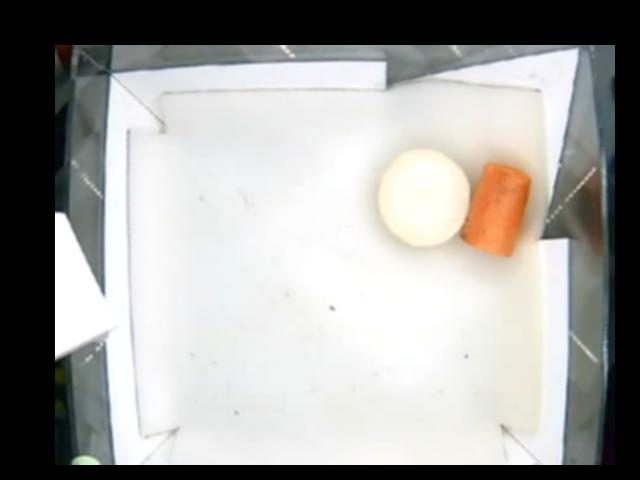Carrot: (461, 160, 530, 258)
Mooli: (380, 147, 470, 246)
